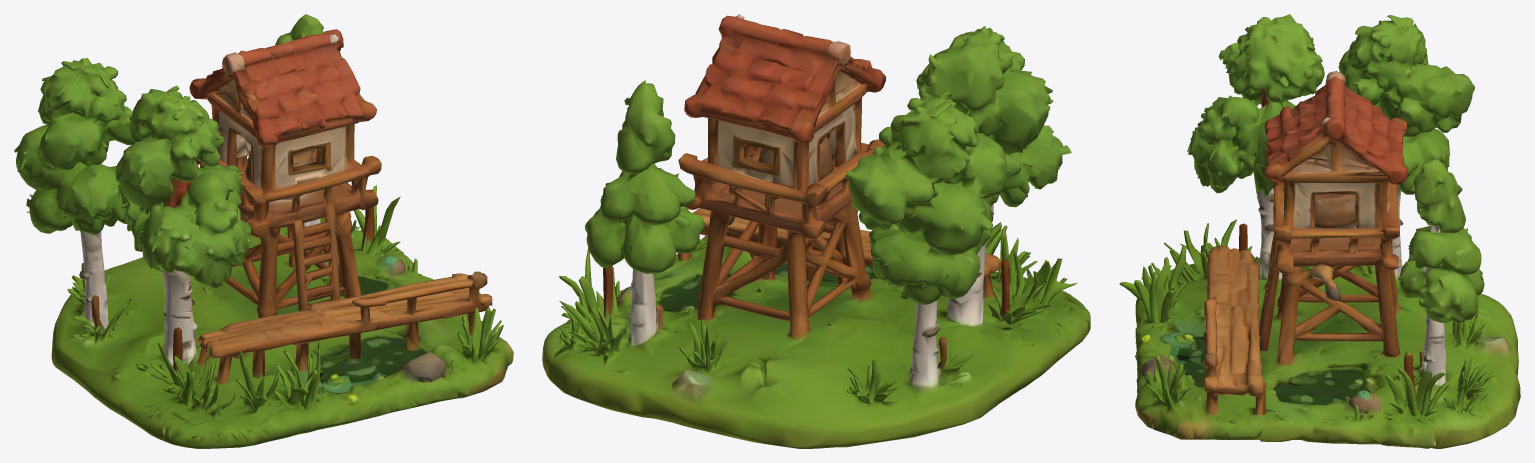
The model's file is poleski-park-narodowy.glb.
The picture shows the model from 3 angles, left to right: view 1: azimuth 30°, elevation 25°; view 2: azimuth 150°, elevation 25°; view 3: azimuth 270°, elevation 25°; orthographic projection. The views are drawn at different scales.
Visible parts, largest first — view 1: tripo_node_4903a9b6-27d0-47d3-9b57-bfa8a52456ff; view 2: tripo_node_4903a9b6-27d0-47d3-9b57-bfa8a52456ff; view 3: tripo_node_4903a9b6-27d0-47d3-9b57-bfa8a52456ff.
Boxes of the visible parts, box(x1,y1,x2,y2) form: tripo_node_4903a9b6-27d0-47d3-9b57-bfa8a52456ff: box(14, 14, 513, 448); tripo_node_4903a9b6-27d0-47d3-9b57-bfa8a52456ff: box(542, 14, 1090, 448); tripo_node_4903a9b6-27d0-47d3-9b57-bfa8a52456ff: box(1119, 14, 1520, 448).
Bounding box in the file's own units: 0.9809 × 0.7342 × 0.9246.
1 material, 1 textured.
